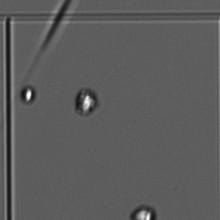Living Cell: (71, 85, 102, 116), (18, 82, 36, 104)
